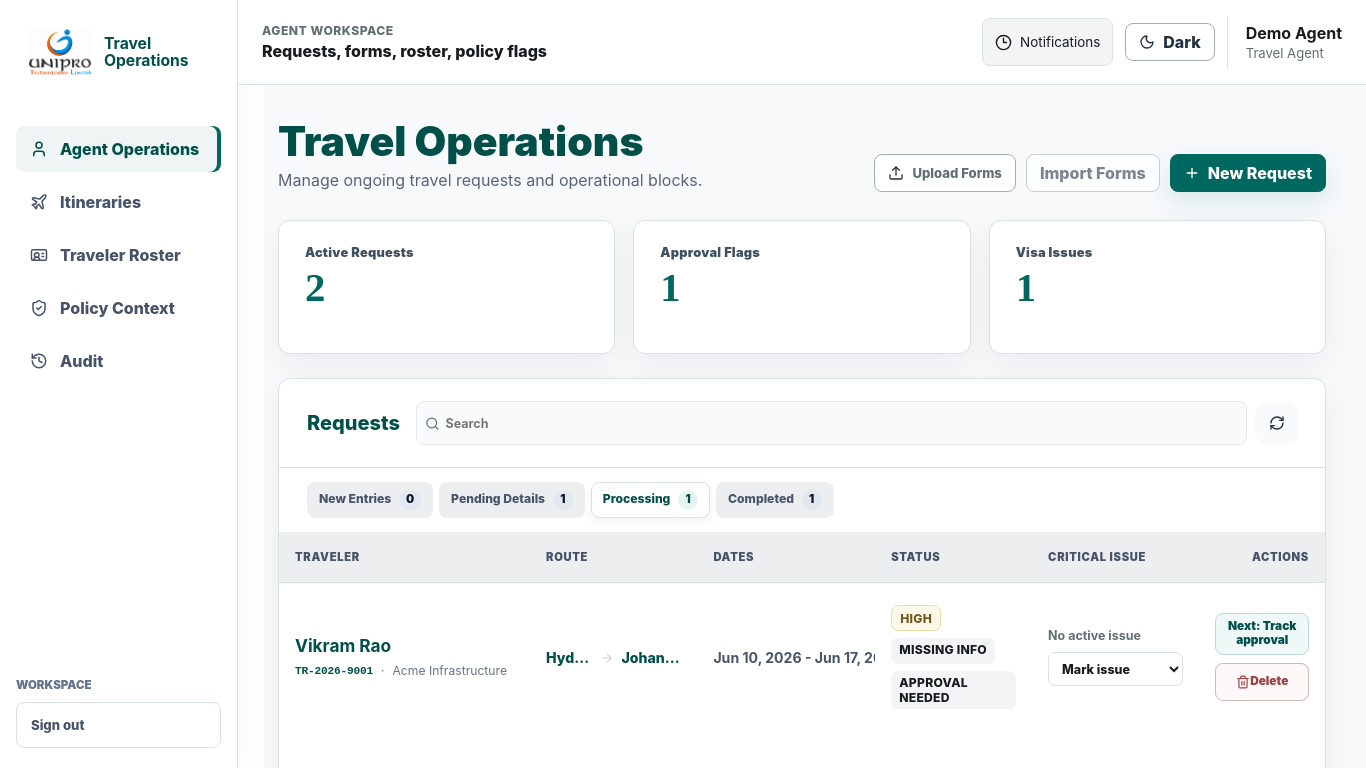
Test: AI Corporate Travel Planning Assistant MVP › filters the request queue by search term and stage buttons
The width and height of the screenshot is (1366, 768).
Check: the text "TR-2026-9001" is shown, box [295,664,373,676]
Check: the text "Active Requests" is shown, box [305,245,414,260]
Type "Johannesburg" into the field named "Search requests" at x=842, y=423, box [446,409,1238,437]
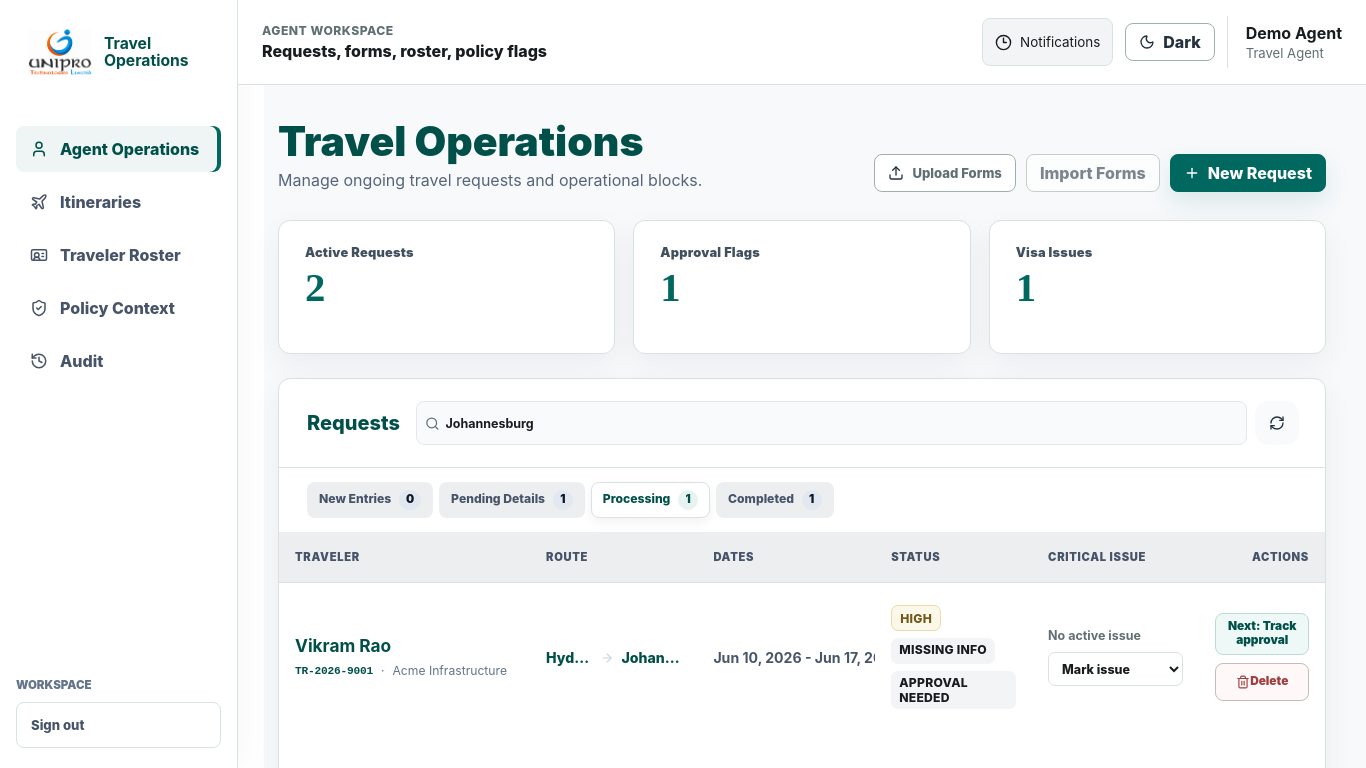
Check: the text "Vikram Rao" is shown, box [295,635,391,656]
Check: the text "Mira Kapoor" is not shown
Clear the field named "Search requests" at x=842, y=423, box [446,409,1238,437]
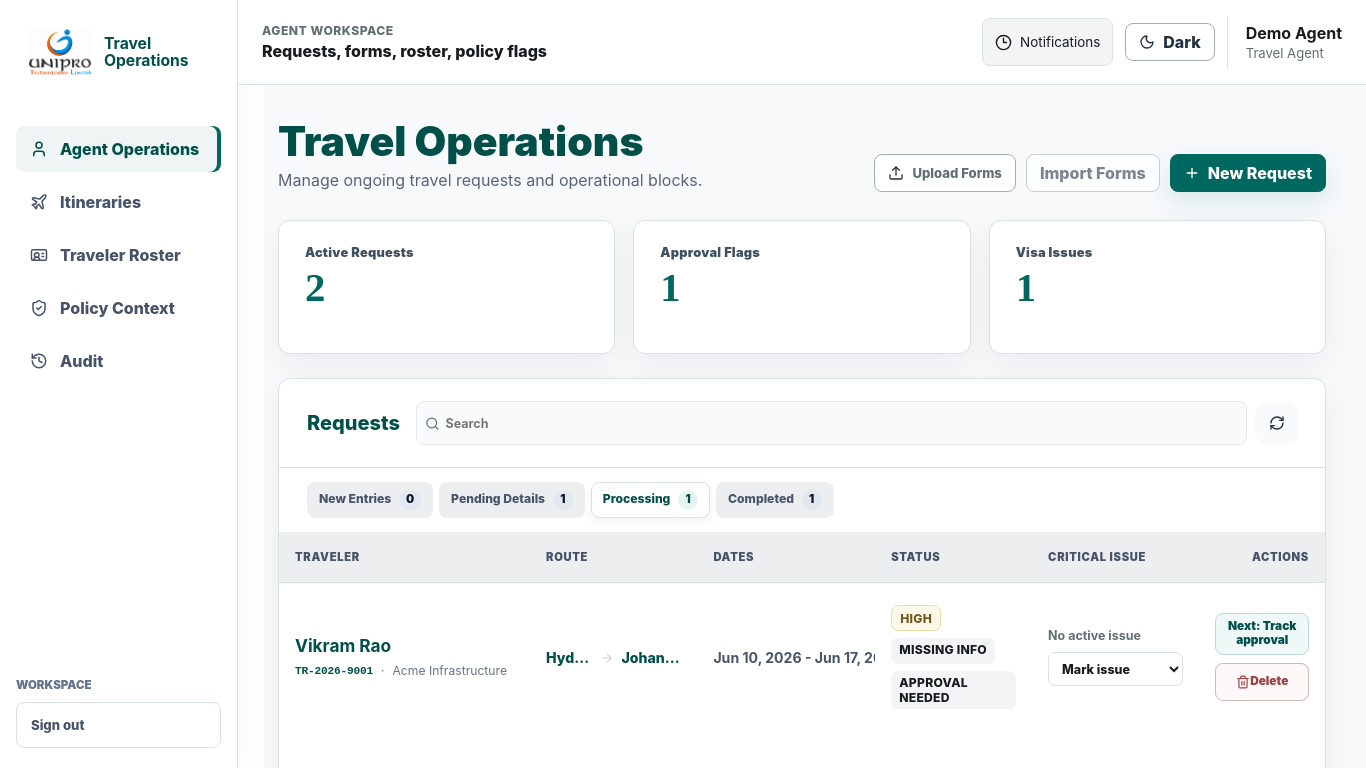
Click the button "Completed 1" at x=775, y=500, box [716,482,834,518]
(page scrolled)
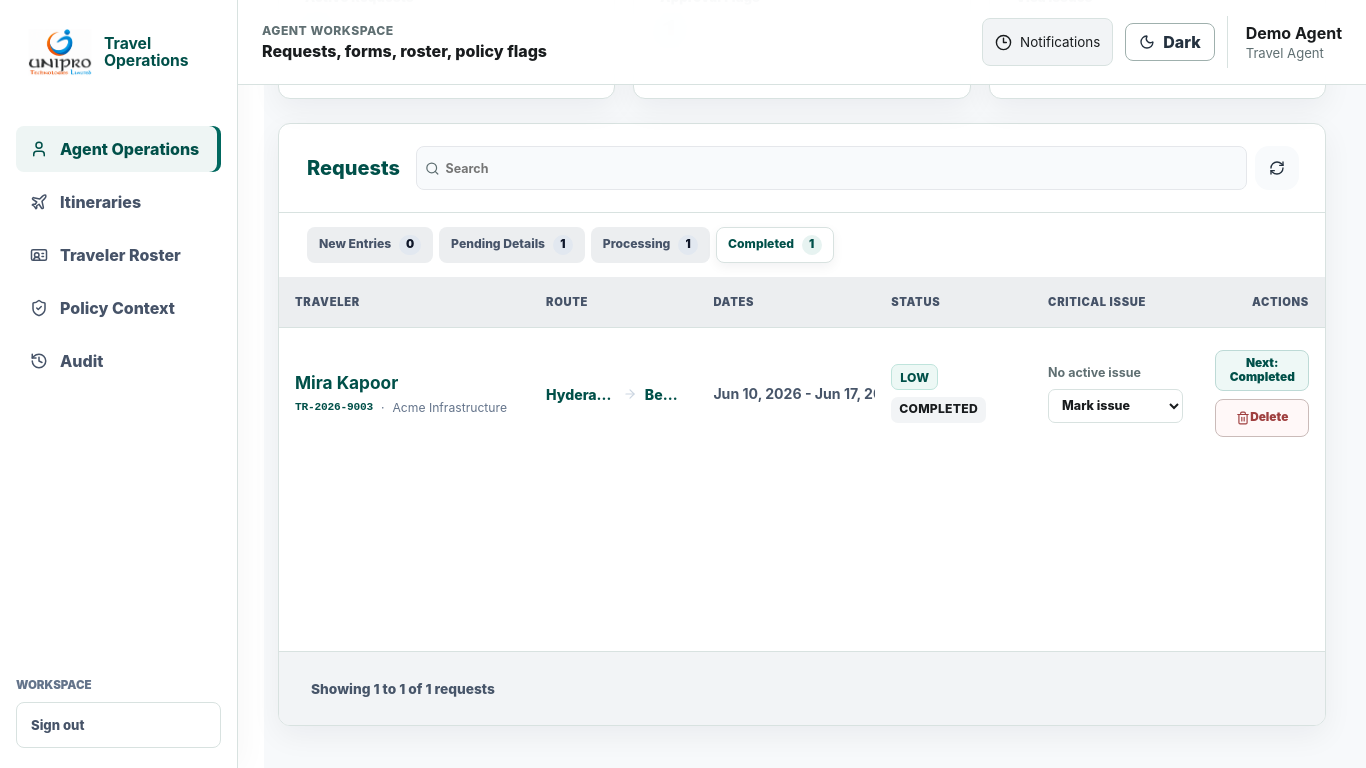
Check: the text "Showing 1 to 1 of 1 requests" is shown, box [311,681,495,697]
Check: the text "Vikram Rao" is gone
Check: the text "Mira Kapoor" is shown, box [295,372,398,393]
